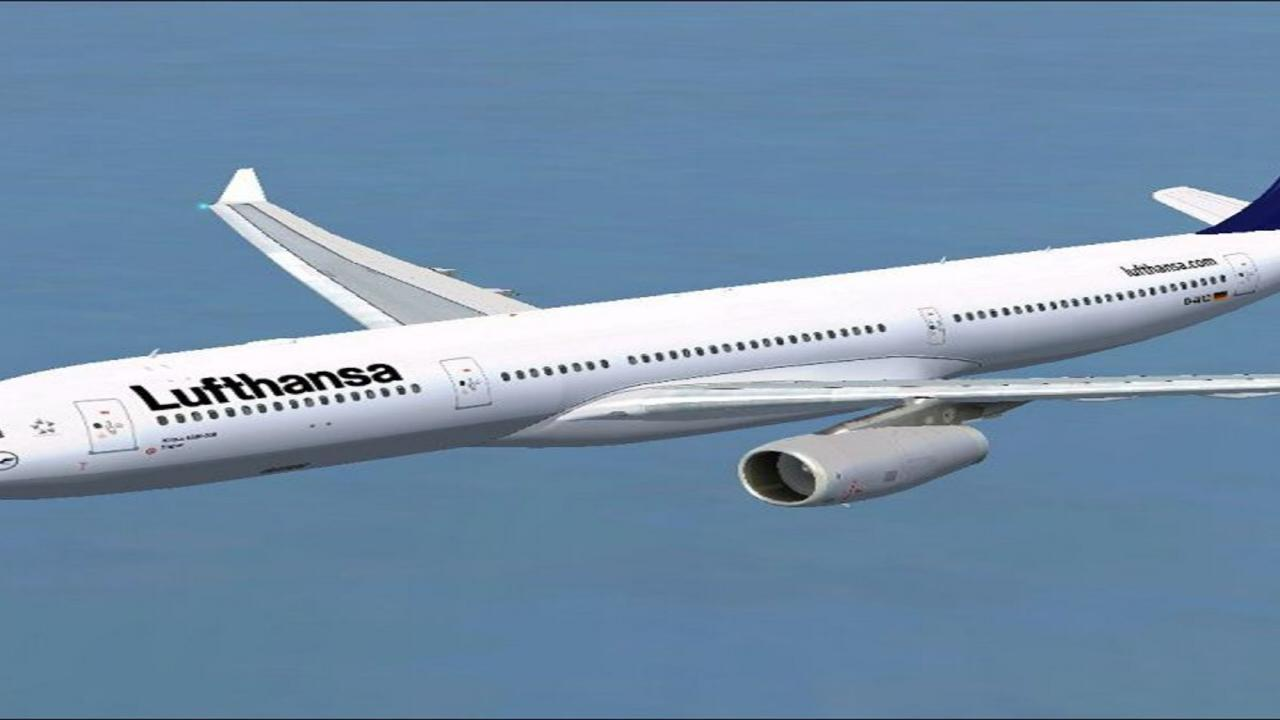Airplane: (3, 146, 1280, 523)
